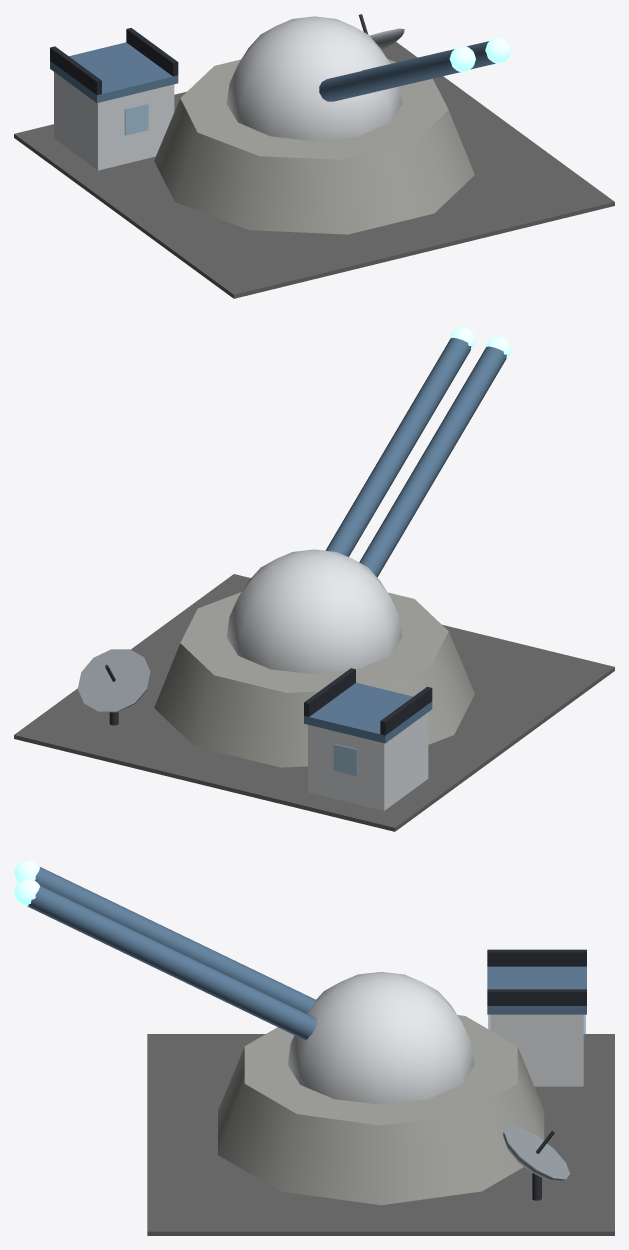
The model's file is bld_special_planetary_defense_a09.glb.
The picture shows the model from 3 angles, top to bottom: view 1: azimuth 30°, elevation 25°; view 2: azimuth 150°, elevation 25°; view 3: azimuth 270°, elevation 25°; orthographic projection. The views are drawn at different scales.
Parts seen in each view (by area): view 1: body, turret, antenna; view 2: body, turret, antenna; view 3: body, turret, antenna.
Boxes of the visible parts, bbox=[...] form: body: bbox=[14, 28, 614, 298]; turret: bbox=[226, 16, 511, 141]; antenna: bbox=[358, 14, 404, 49]; body: bbox=[14, 574, 614, 831]; turret: bbox=[226, 327, 511, 674]; antenna: bbox=[78, 649, 150, 725]; body: bbox=[147, 949, 614, 1235]; turret: bbox=[14, 860, 474, 1104]; antenna: bbox=[503, 1126, 569, 1200].
Size of what is drawn, in the model's own units: 15 by 9.43 by 19.28.
